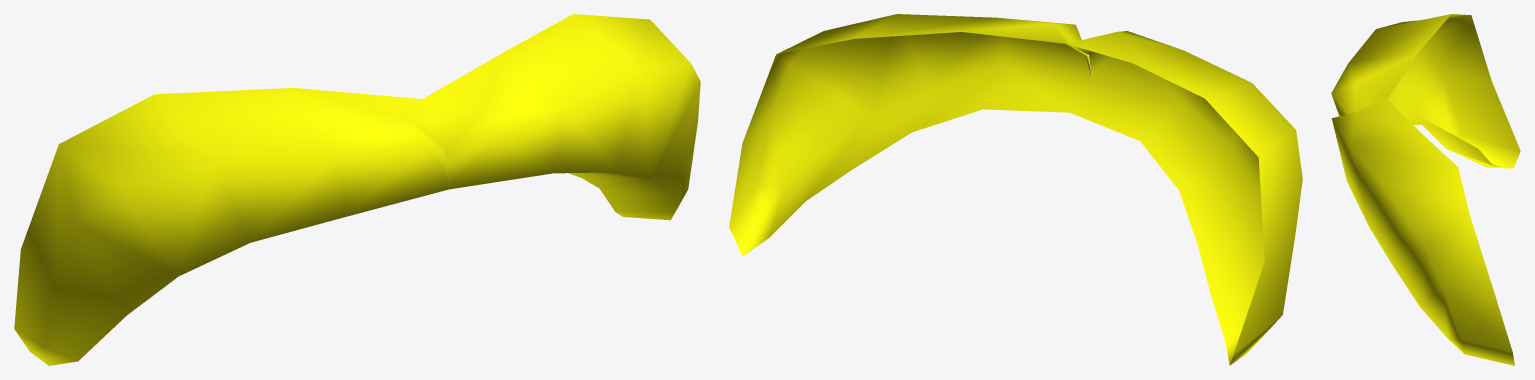
Rendered from mooch.glb.
3 views of the same model, side by side, from view 1: azimuth 30°, elevation 25°; view 2: azimuth 150°, elevation 25°; view 3: azimuth 270°, elevation 25° (orthographic). The views are drawn at different scales.
Parts seen in each view (by area): view 1: mooch; view 2: mooch; view 3: mooch.
Part boxes in pixels (x1,y1,x2,y2): mooch: (14,14,700,365); mooch: (729,14,1302,365); mooch: (1331,14,1520,365).
Bounding box in the file's own units: 0.0795 × 0.0335 × 0.0308.
